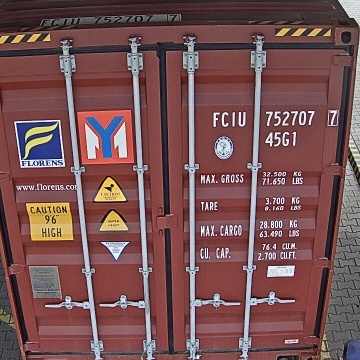serial_id: (213, 109, 338, 126)
